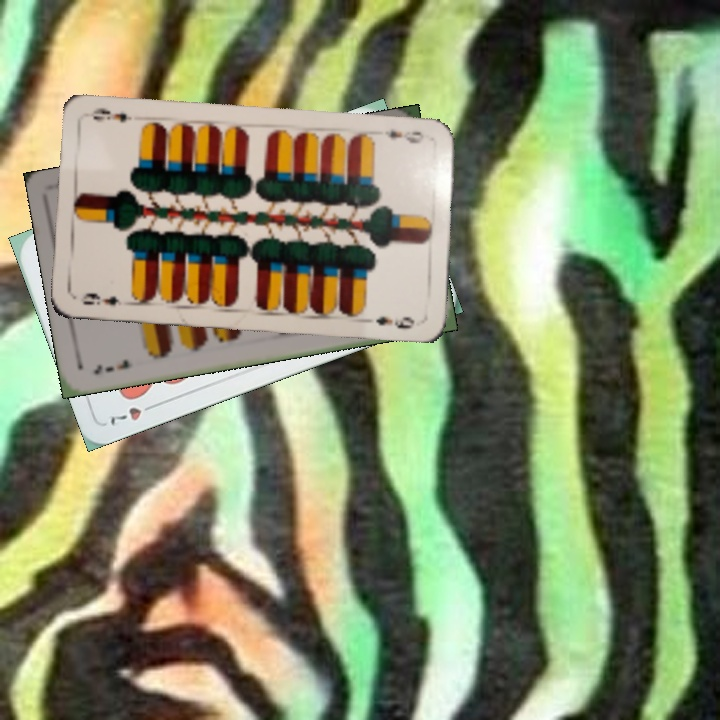E7: (89, 355, 132, 378)
E9: (380, 126, 426, 146), (76, 289, 124, 308)
H7: (105, 399, 161, 428)
